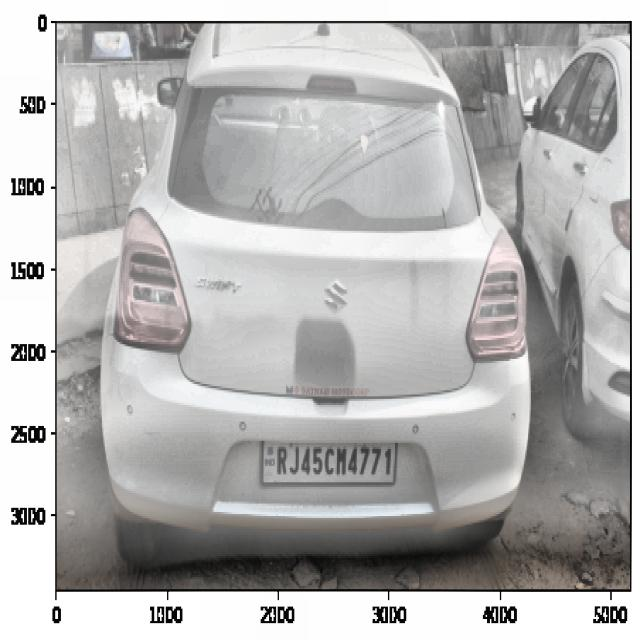license_plate: (267, 436, 399, 488)
